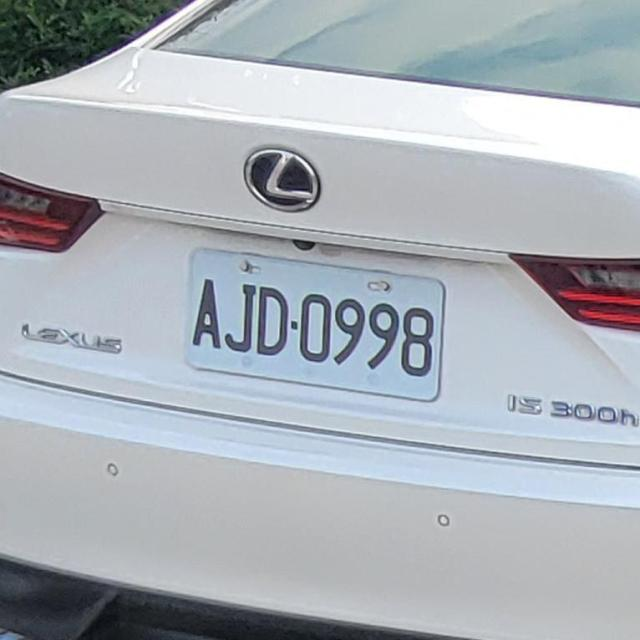W: (175, 236, 451, 404)
